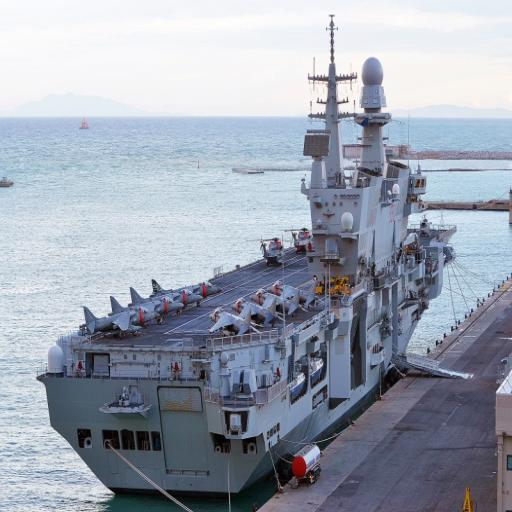Portanaves: (35, 2, 462, 506)
